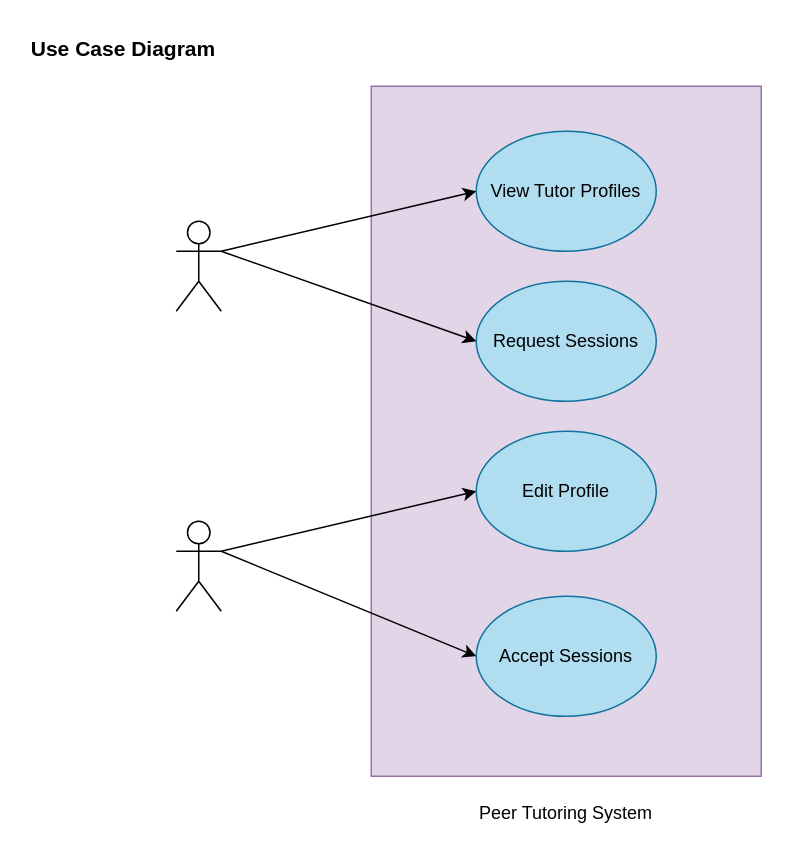
The diagram is 788 pixels wide and 861 high, and some of its shapes have lost their labels. The centre of each missing label's shape, as x and y in pixels:
Students: (x=198, y=565)
Tutors: (x=198, y=265)
